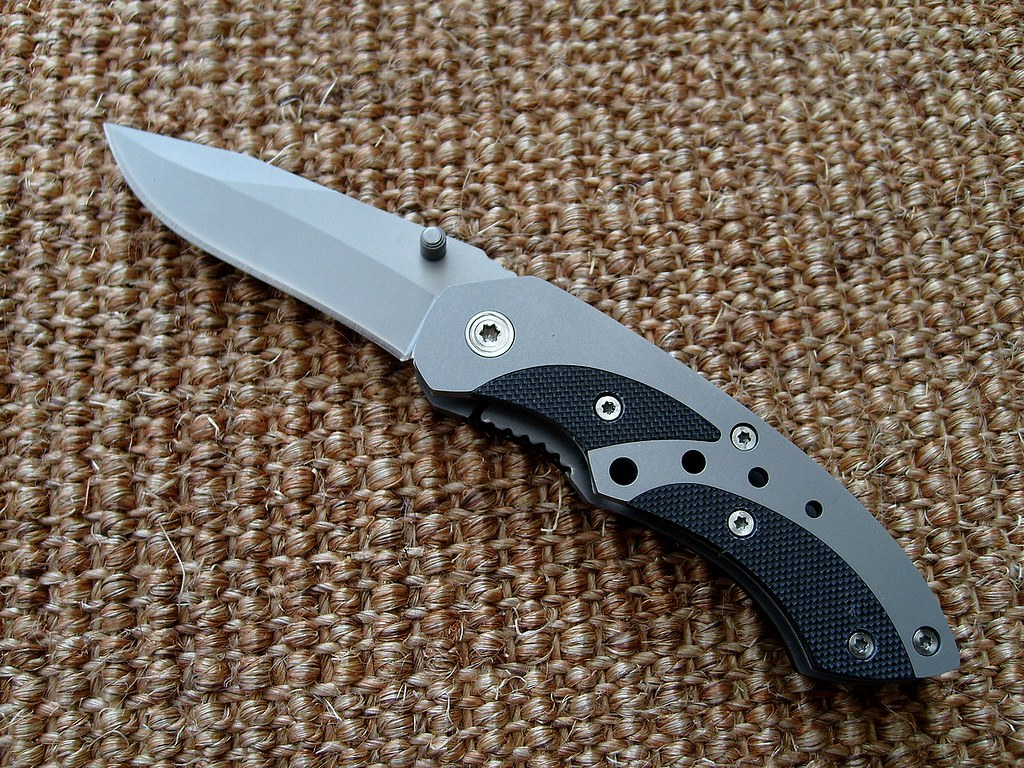knife: (90, 111, 974, 686)
